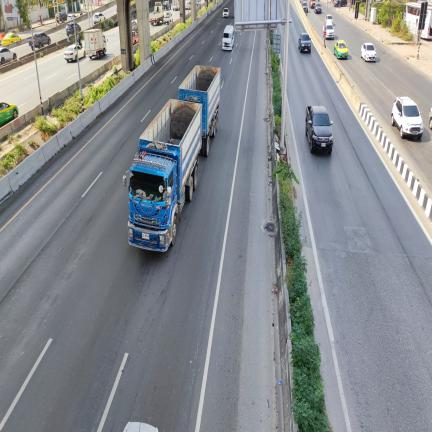car: (391, 97, 423, 139), (361, 43, 376, 62), (298, 33, 311, 53), (64, 45, 77, 62), (78, 46, 86, 59), (223, 8, 229, 18)
pickup: (306, 106, 333, 154), (28, 33, 51, 50)
taxi: (0, 102, 19, 126), (334, 40, 348, 59)
truck: (84, 29, 106, 59), (149, 2, 164, 25), (163, 11, 173, 25)
truck trailer: (123, 99, 202, 251), (178, 65, 221, 157)
van: (222, 25, 234, 50)
